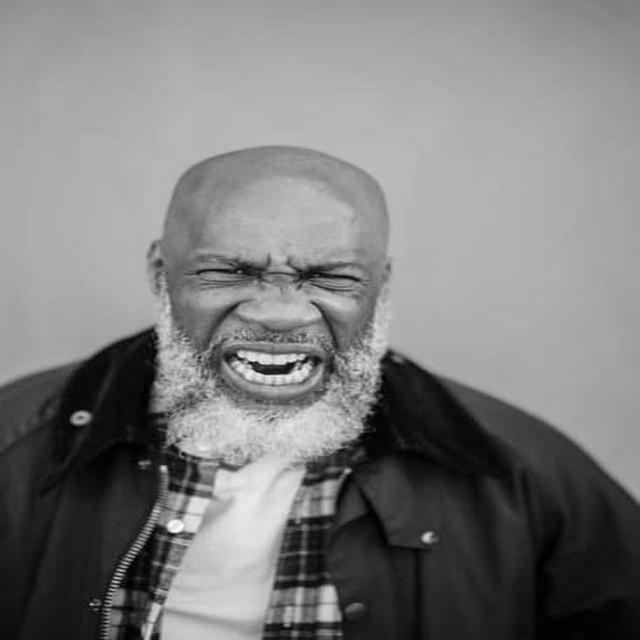Angry: (166, 175, 380, 460)
